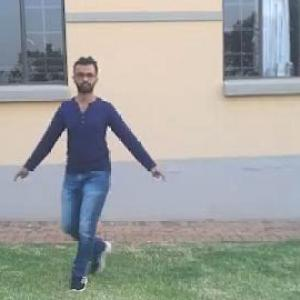land: (20, 71, 156, 259)
